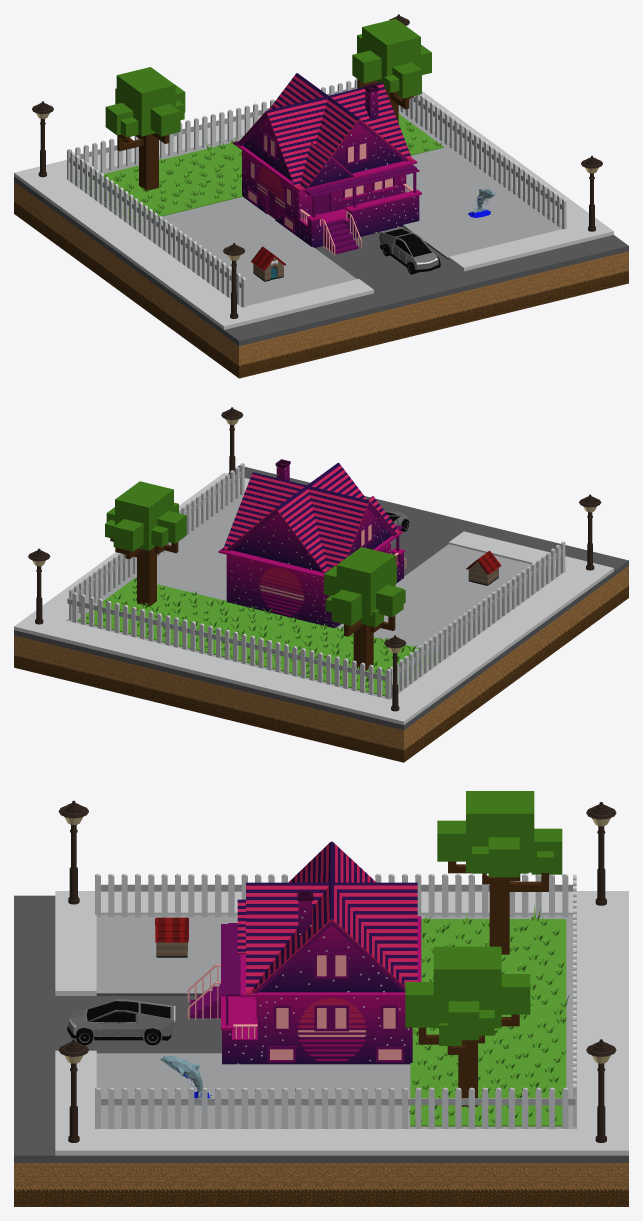
The picture shows the model from 3 angles, top to bottom: view 1: azimuth 30°, elevation 25°; view 2: azimuth 150°, elevation 25°; view 3: azimuth 270°, elevation 25°; orthographic projection. The views are drawn at different scales.
Parts seen in each view (by area): view 1: Cube.004, Cube.156, VEHICLES_CYBERTRUCK, OBJRANDOM_DOGHOUSE; view 2: Cube.004, Cube.156, OBJRANDOM_DOGHOUSE; view 3: Cube.004, Cube.156, VEHICLES_CYBERTRUCK, OBJRANDOM_DOGHOUSE, ANIMAL_DELFIN.
Boxes of the visible parts, x1,y1,x2,y2 form: Cube.004: [14, 14, 628, 378]; Cube.156: [233, 73, 421, 255]; VEHICLES_CYBERTRUCK: [379, 227, 440, 274]; OBJRANDOM_DOGHOUSE: [251, 246, 285, 281]; Cube.004: [14, 407, 628, 762]; Cube.156: [218, 459, 406, 627]; OBJRANDOM_DOGHOUSE: [466, 550, 501, 585]; Cube.004: [14, 791, 628, 1206]; Cube.156: [187, 841, 421, 1064]; VEHICLES_CYBERTRUCK: [67, 999, 175, 1045]; OBJRANDOM_DOGHOUSE: [155, 917, 188, 957]; ANIMAL_DELFIN: [160, 1056, 211, 1105].
Bounding box in the file's own units: 4000 × 1604 × 4000.
Materials: 33 (5 with a texture image).
